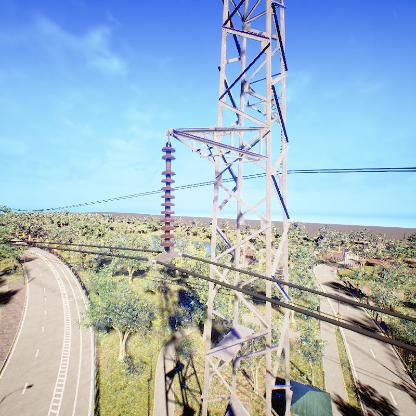insulator: (159, 145, 179, 253)
